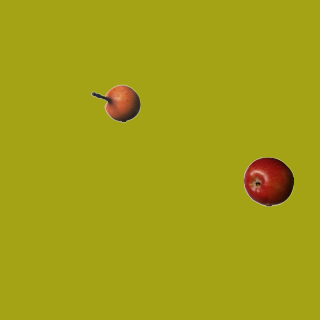Apple Braeburn: (243, 156, 293, 206)
Granadilla: (90, 78, 140, 128)
